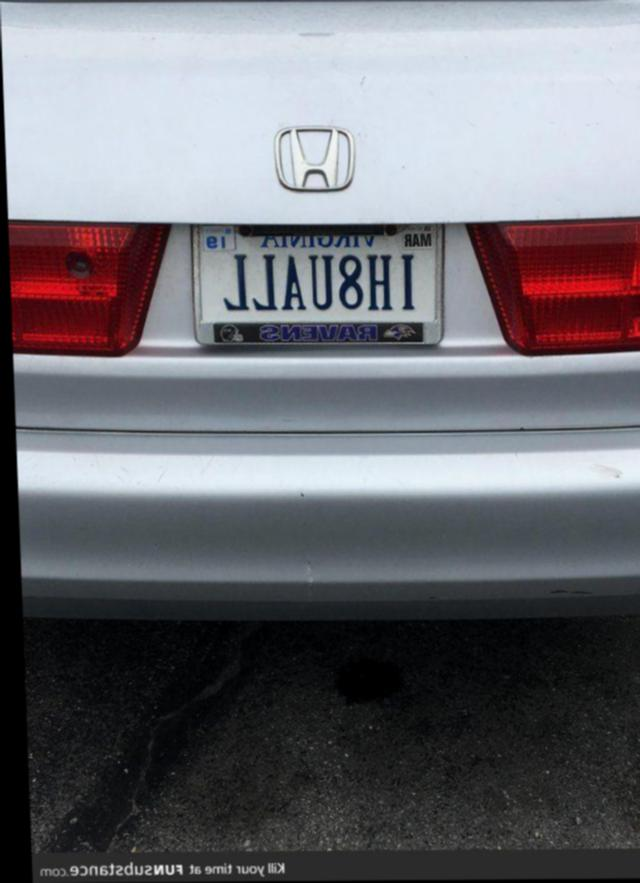License_Plate: (169, 207, 465, 378)
